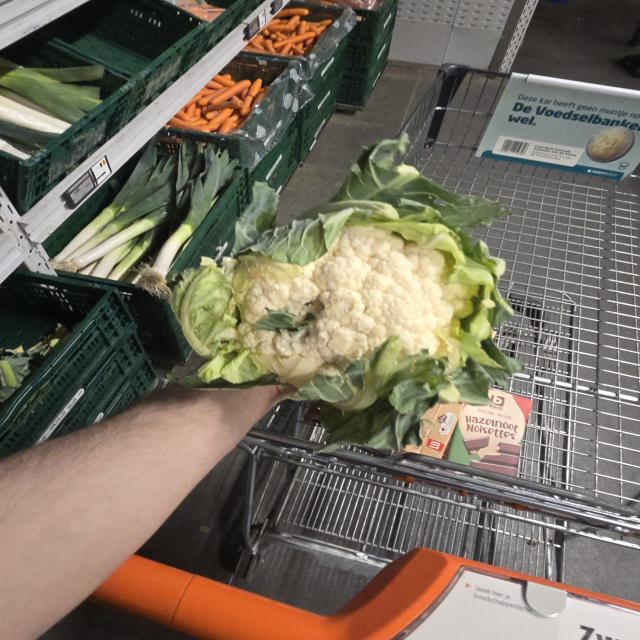Cauliflower: (185, 178, 501, 430)
